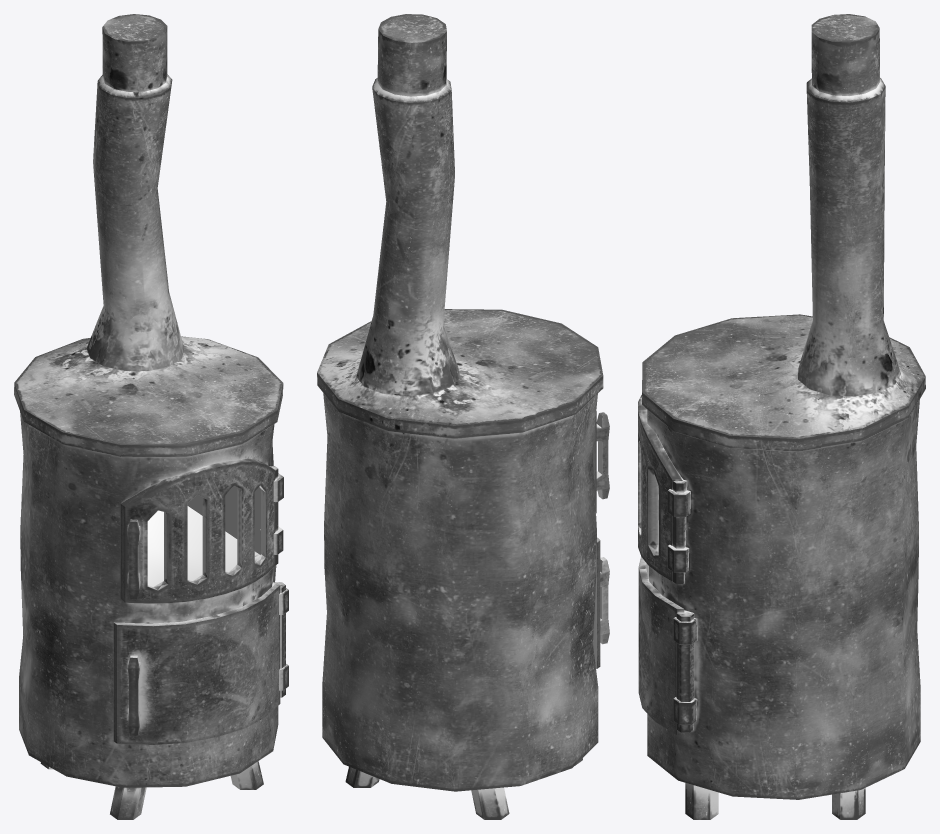
The model's file is metal furnace.fbx.
3 views of the same model, side by side, from view 1: azimuth 30°, elevation 25°; view 2: azimuth 150°, elevation 25°; view 3: azimuth 270°, elevation 25° (orthographic). The views are drawn at different scales.
Parts seen in each view (by area): view 1: Cylinder, Cylinder.001, Cylinder.005, Cylinder.009_Cylinder.010, Cube.093_Cube.092, Cube.094_Cube.093; view 2: Cylinder, Cylinder.009_Cylinder.010, Cube.093_Cube.092, Cylinder.001, Cube.094_Cube.093; view 3: Cylinder, Cylinder.001, Cylinder.005, Cylinder.009_Cylinder.010, Cylinder.004, Cylinder.006, Cylinder.002, Cylinder.008, Cylinder.003, Cylinder.007.
Part boxes in pixels (x1,y1,x2,y2): Cylinder: (14, 14, 283, 787); Cylinder.001: (113, 583, 280, 744); Cylinder.005: (120, 458, 275, 603); Cylinder.009_Cylinder.010: (40, 761, 263, 819); Cube.093_Cube.092: (127, 519, 140, 599); Cube.094_Cube.093: (127, 655, 140, 735); Cylinder: (317, 14, 603, 791); Cylinder.009_Cylinder.010: (345, 758, 582, 819); Cube.093_Cube.092: (596, 412, 609, 499); Cylinder.001: (593, 537, 600, 668); Cube.094_Cube.093: (600, 557, 609, 644); Cylinder: (642, 14, 925, 799); Cylinder.001: (638, 556, 684, 734); Cylinder.005: (638, 395, 682, 581); Cylinder.009_Cylinder.010: (685, 783, 865, 819); Cylinder.004: (676, 610, 694, 732); Cylinder.006: (673, 477, 687, 583); Cylinder.002: (673, 617, 697, 644); Cylinder.008: (667, 489, 690, 516); Cylinder.003: (673, 697, 697, 724); Cylinder.007: (667, 544, 689, 572).
Bounding box in the file's own units: 0.4823 × 1.42 × 0.4855.
